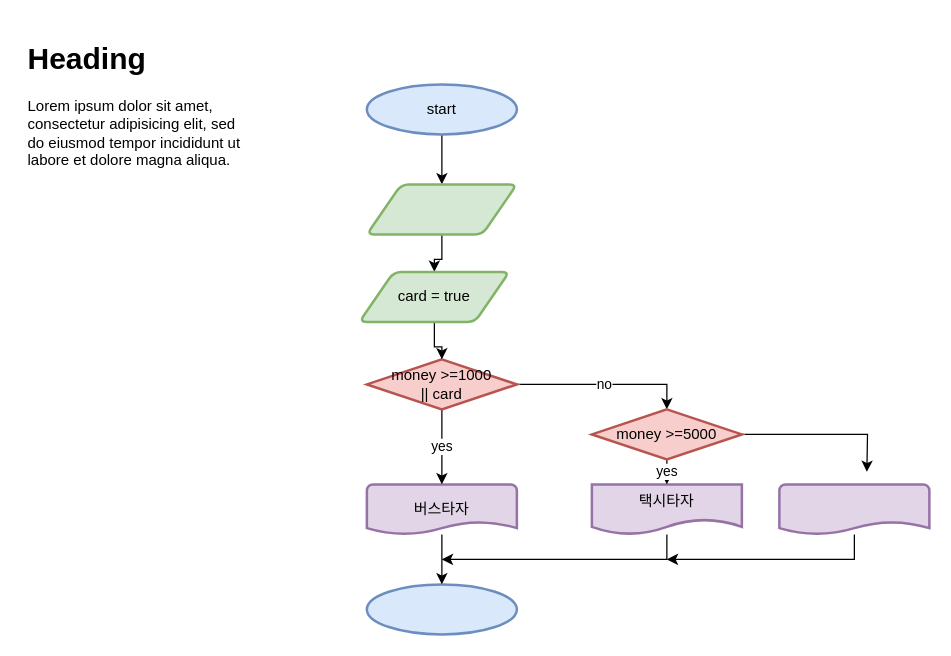
Image size: 951x656. Some labels were removed from this diagram. The centre of each missing label's shape, as x and y in pixels:
"end" goes at [441,608].
"money =500" goes at [441,208].
"걸어가자" goes at [854,508].
